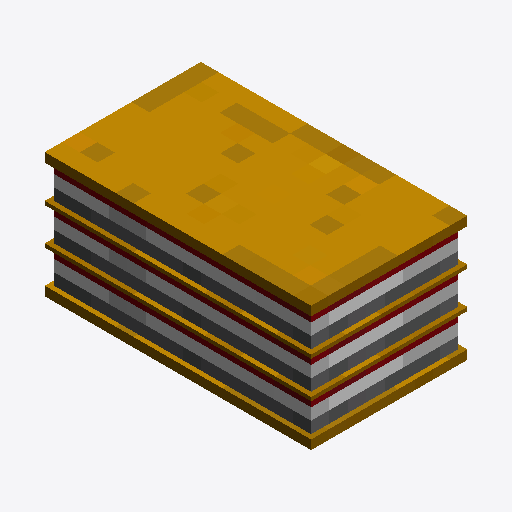
Isometric view (azimuth 45°, elevation 35.3°) of a Minecraft model made of 7 cuboids, textured from the same repository.
Visible parts, largest first — element 7, element 1, element 2, element 4, element 6, element 3, element 5.
Part boxes in pixels (x1,y1,x2,y2): element 7: (45,62,466,315); element 1: (54,253,457,433); element 2: (54,211,457,391); element 4: (54,168,457,348); element 6: (45,281,466,449); element 3: (45,238,466,400); element 5: (45,196,466,358).
Size of the model in its own units: 8.5 by 6.8 by 14.5.